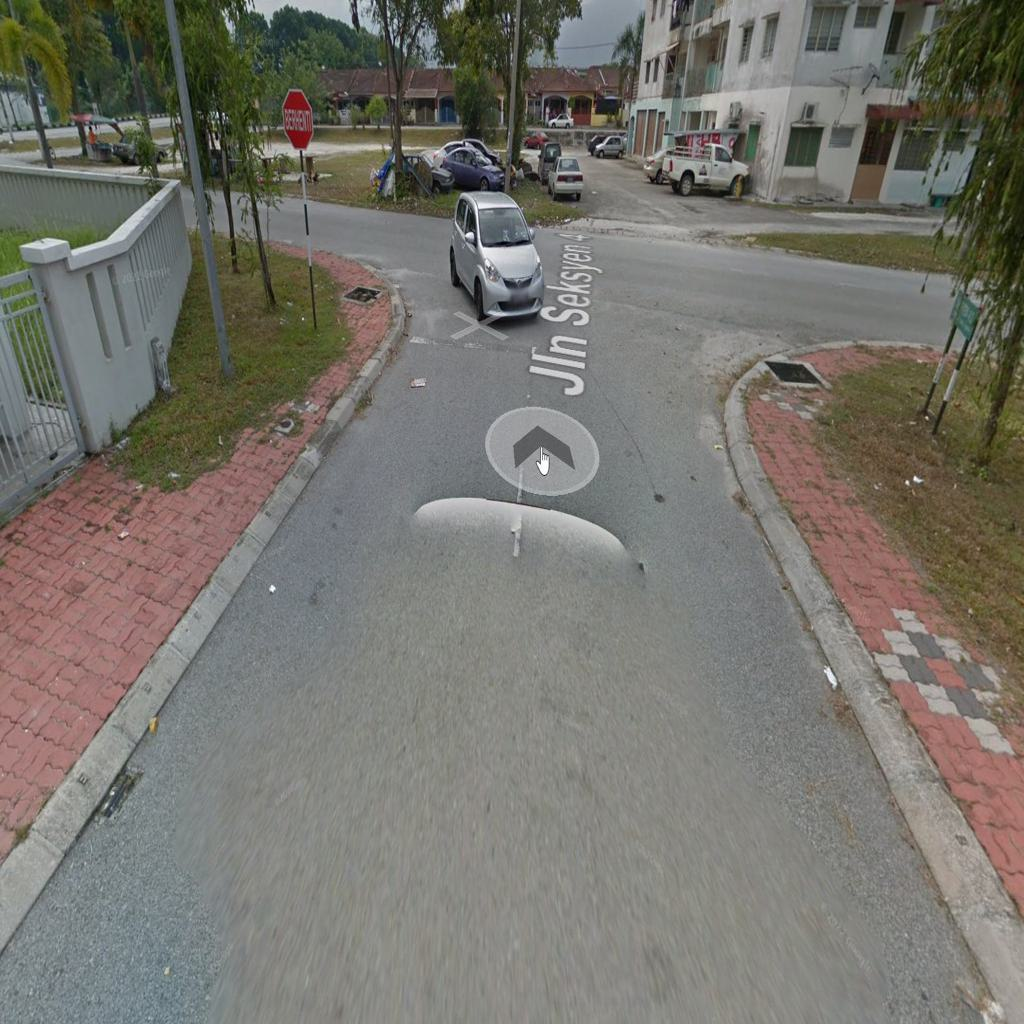Junction: (691, 233, 1017, 455), (263, 166, 428, 348)
